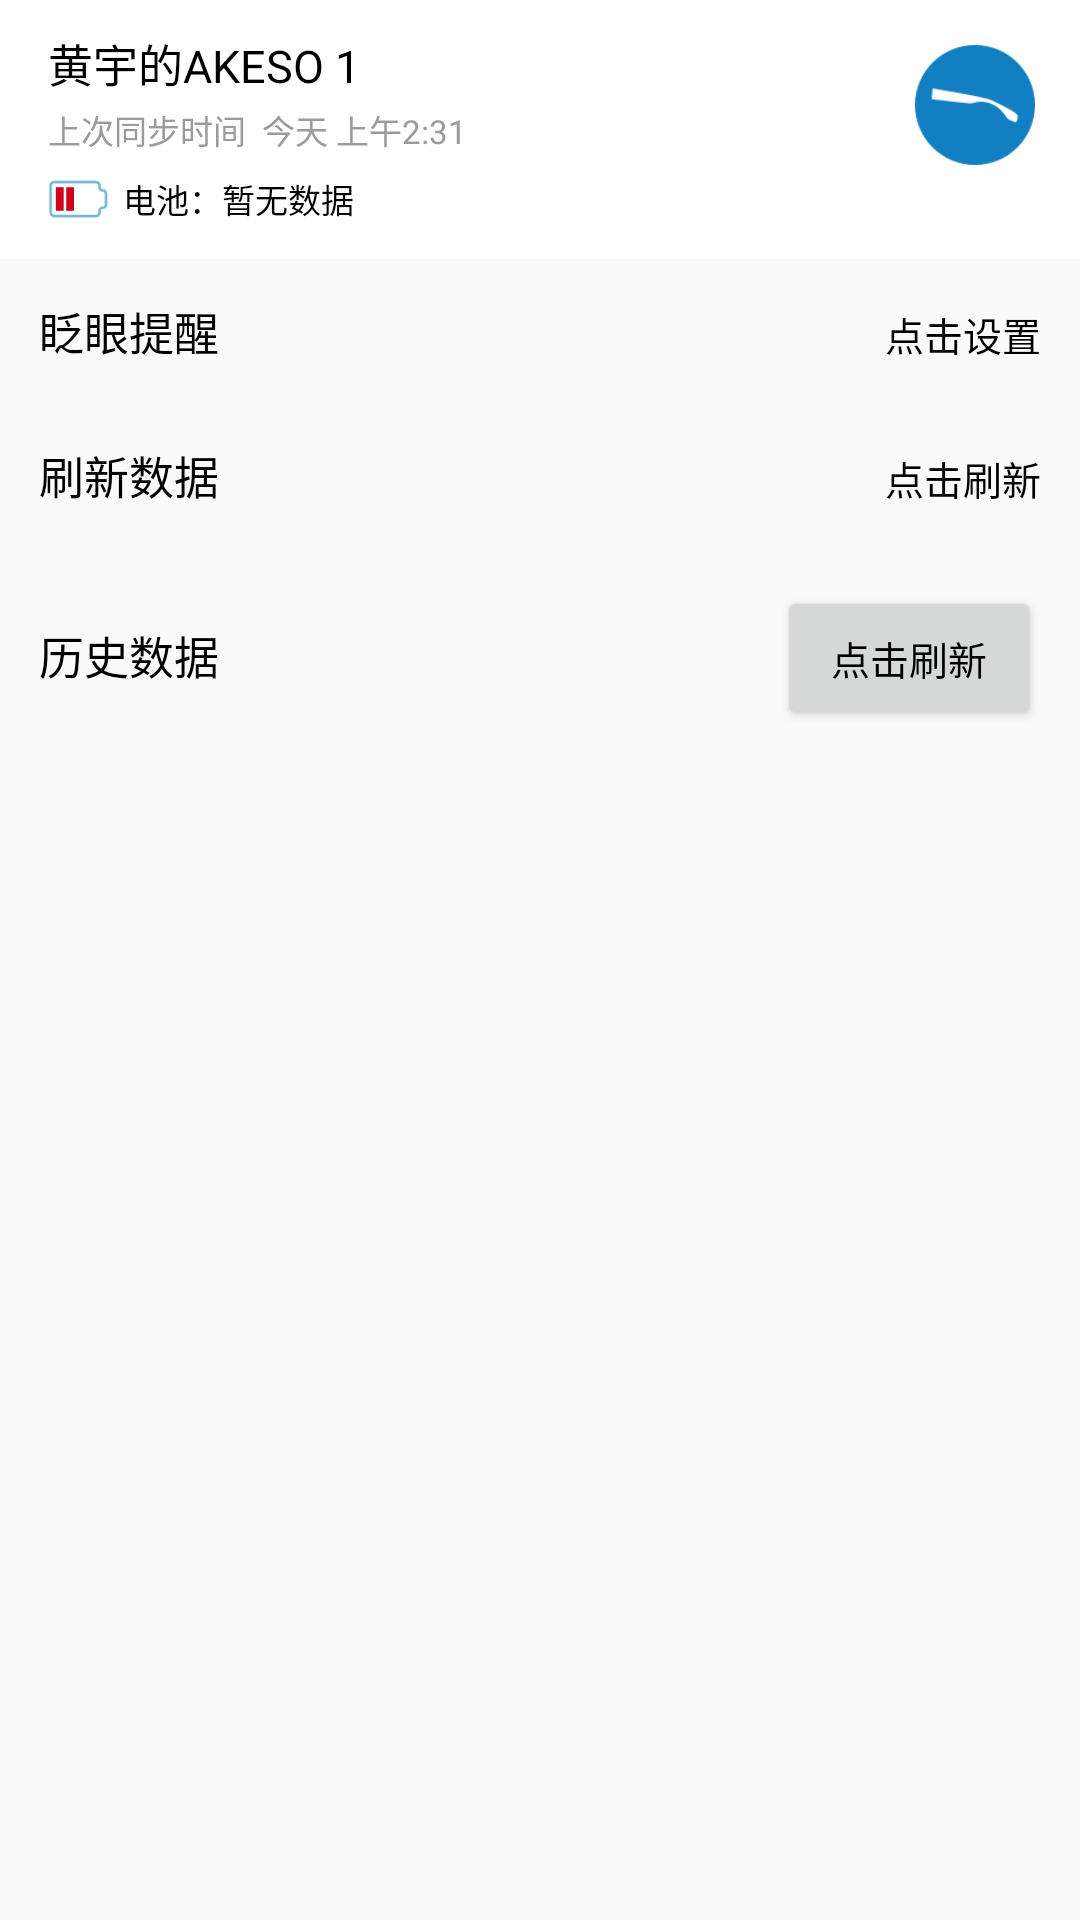

Named icons in this screenshot (1080x1920) and their bounding boxes, (x1, y1, x2, y2):
state low energy: (49, 180, 108, 218)
